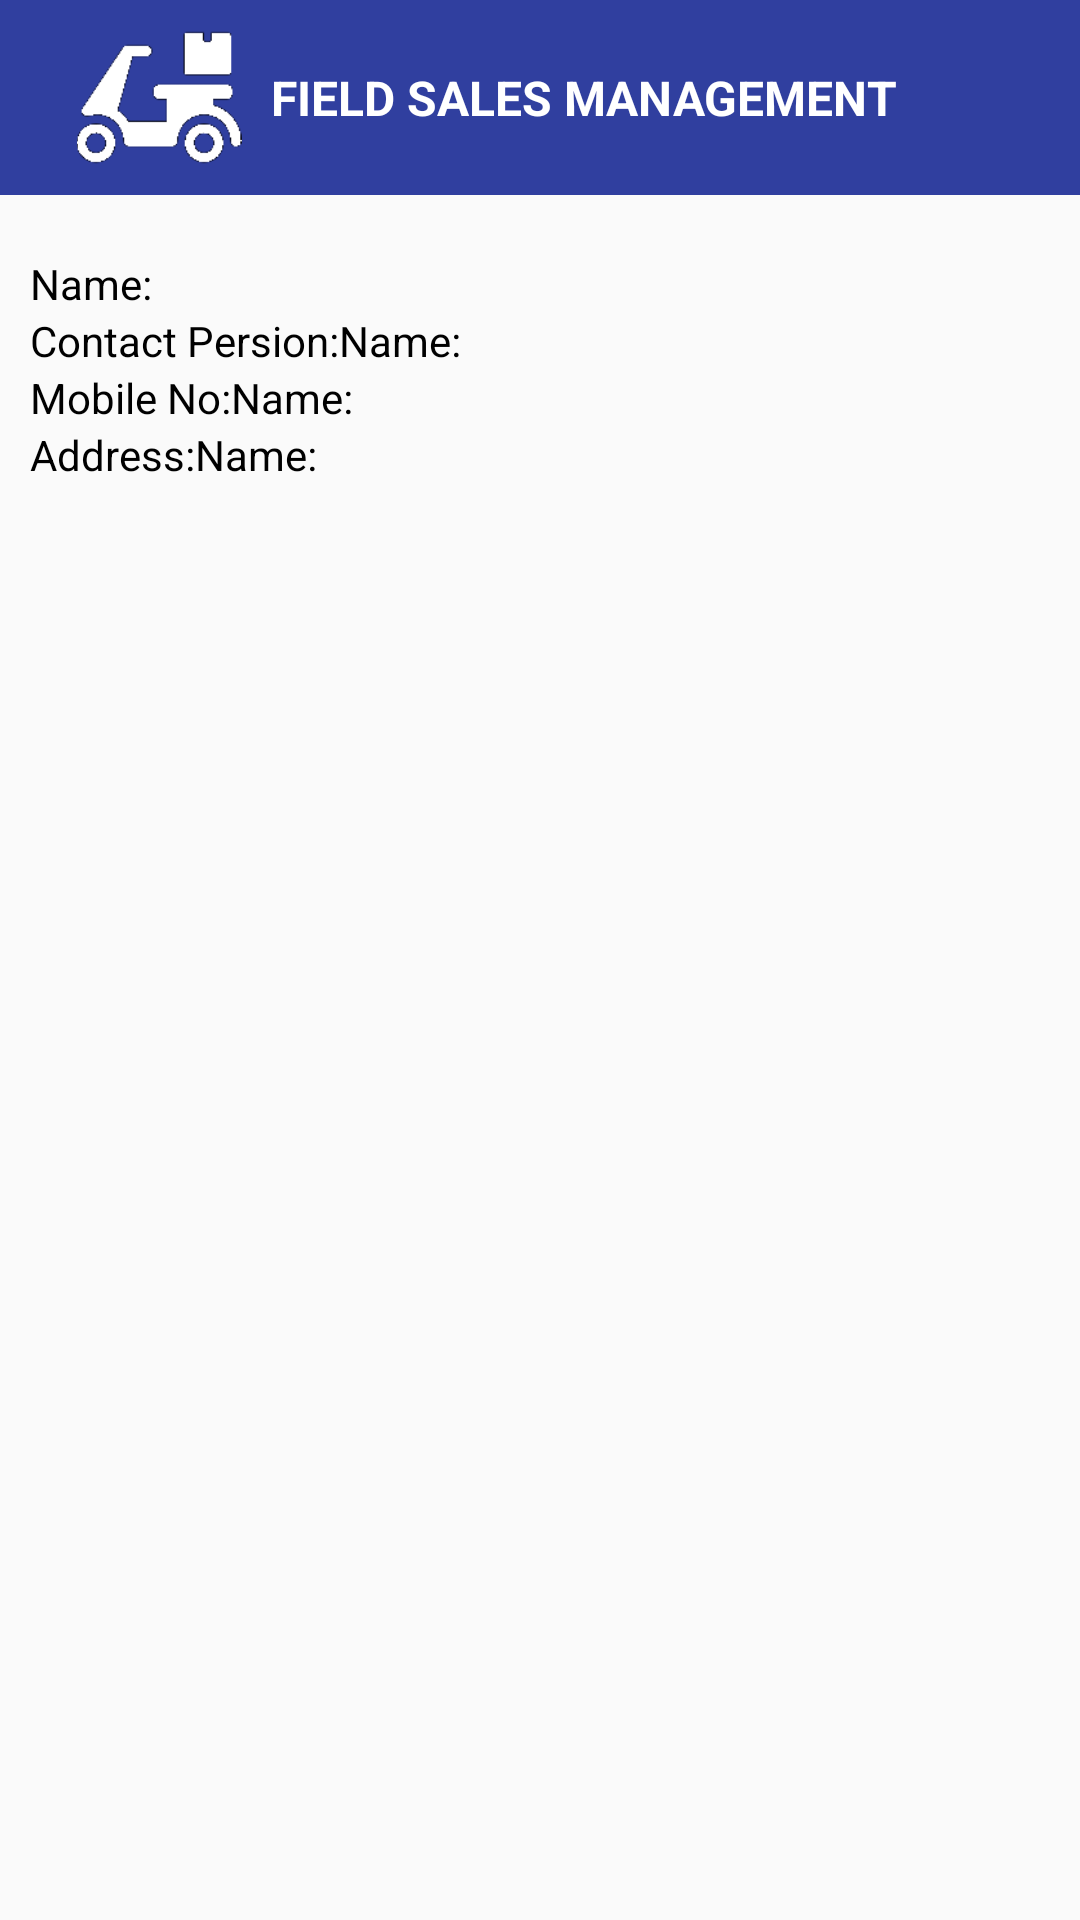

Icons on this 1080px x 1920px Android screen, each with the point to tap as point (x, y):
biker: point (159, 97)
